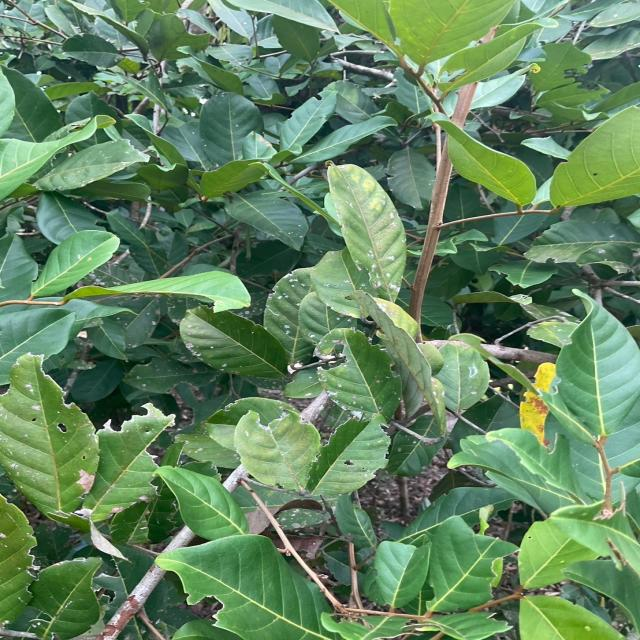Algal Leaf Spot: (274, 276, 437, 416), (180, 311, 265, 408)
